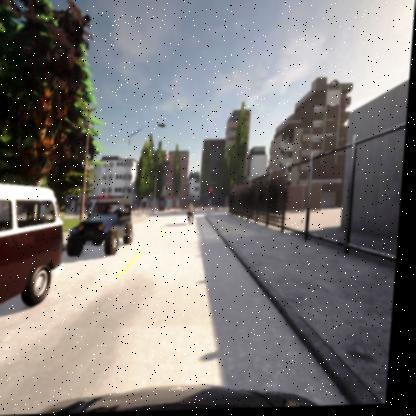bike: (189, 204, 199, 226)
vehicle: (0, 167, 73, 358), (70, 184, 141, 259)
